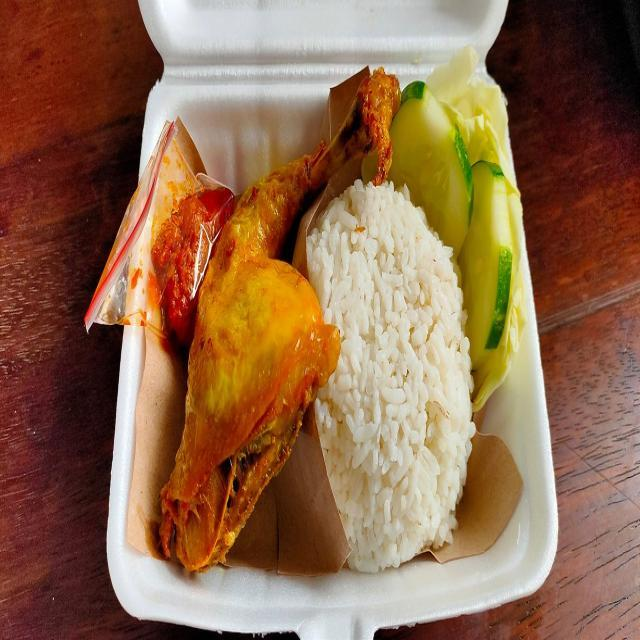ayam_goreng: (180, 57, 346, 596)
nasi_putih: (338, 191, 462, 563)
